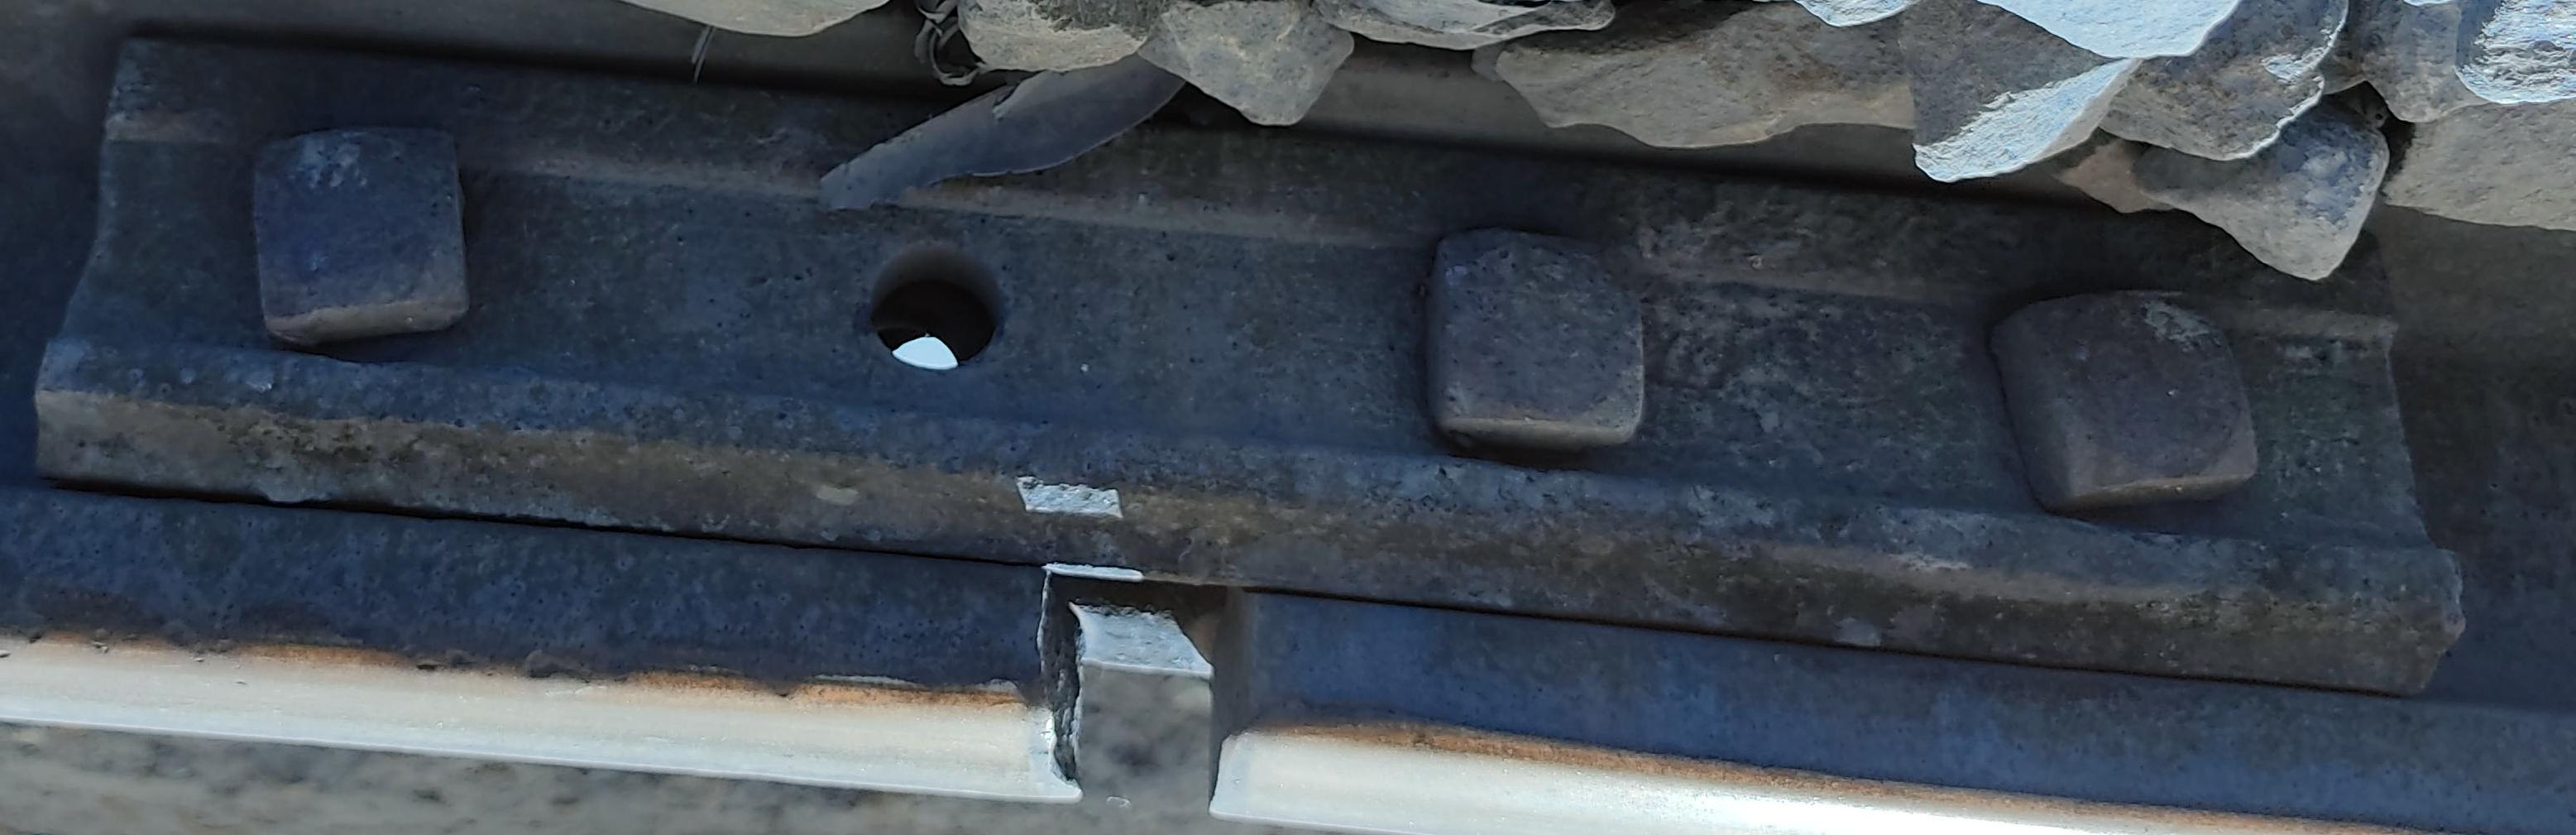error2: (1025, 460, 1313, 796)
